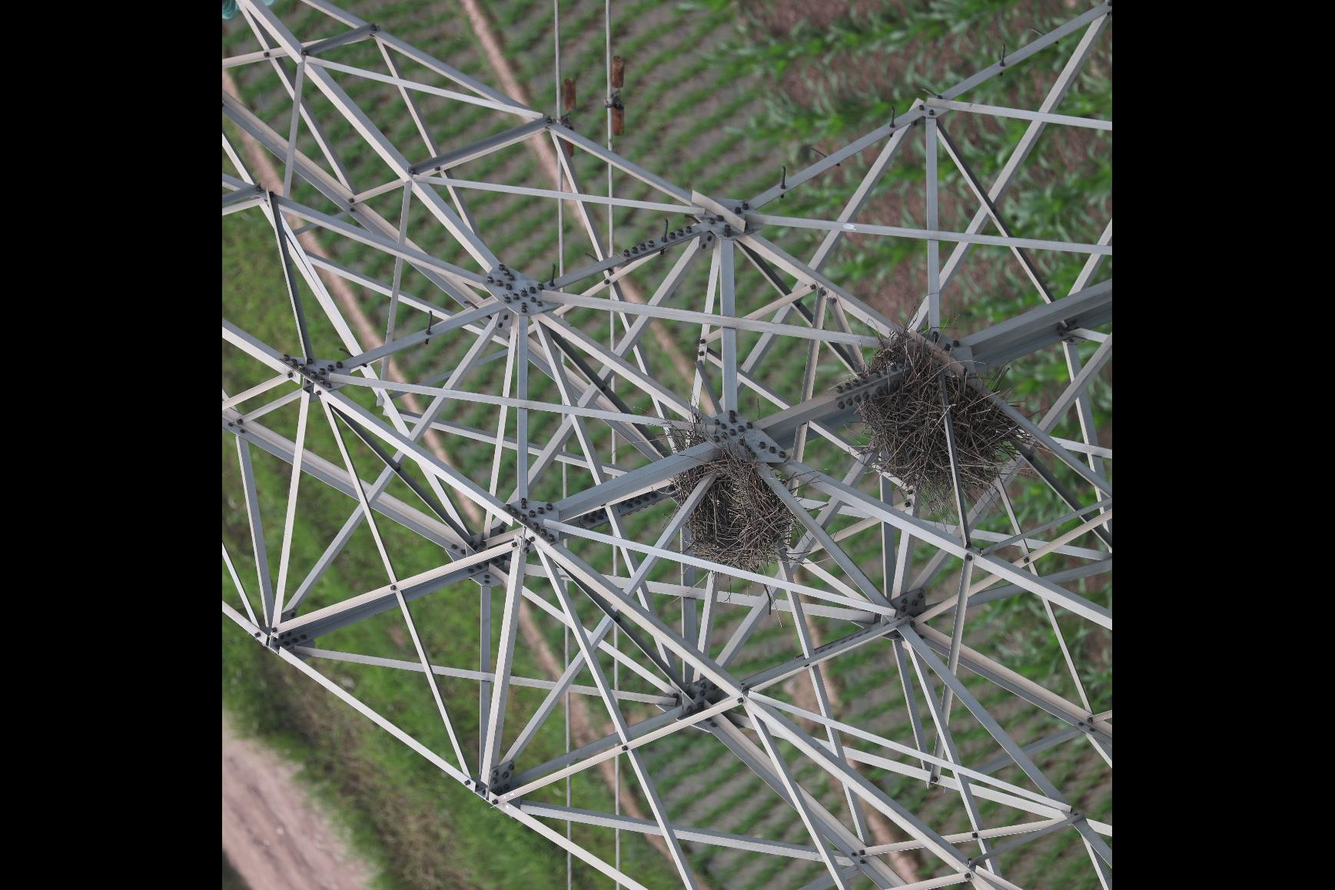damper: (599, 51, 629, 138), (553, 74, 579, 159)
nest: (842, 324, 1021, 509), (664, 410, 797, 576)
